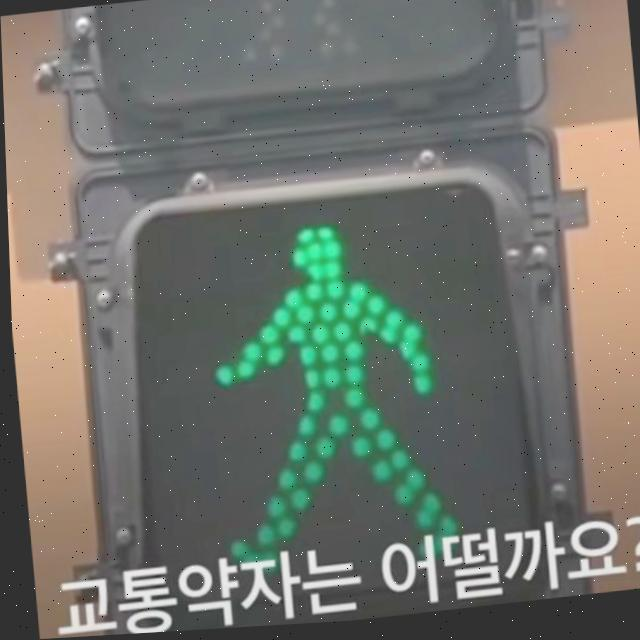green_light: (132, 188, 538, 566)
